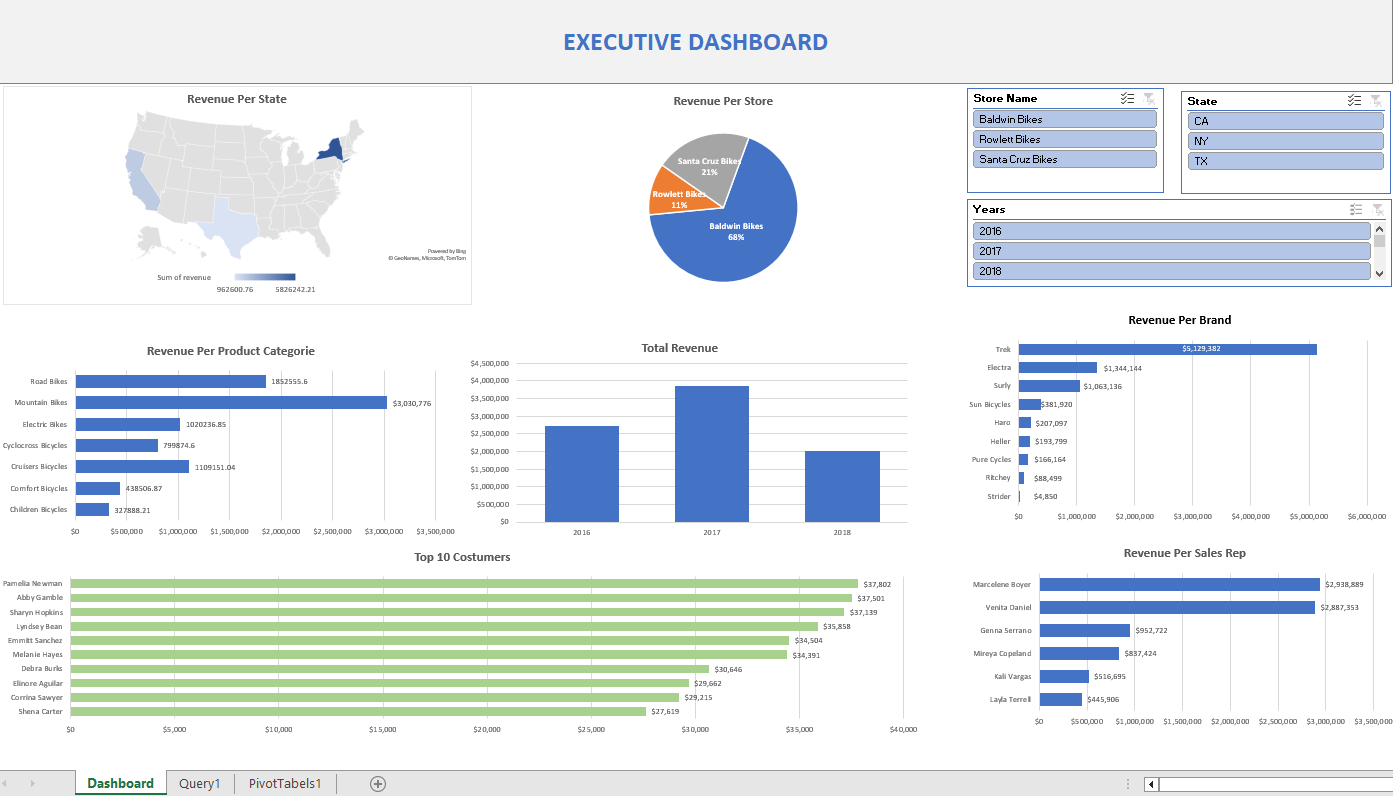

This screenshot's page, from the dashboard's own definition file:
{"tool":"tableau","page":{"name":"Tableau de bord 1","canvas":[800,1600],"ordinal":0},"visuals":[{"type":"worksheet","title":"Year","mark":"Automatic","box":[646,7,152,92]},{"type":"text","box":[102,16,581,82]},{"type":"worksheet","title":"Banner","mark":"Automatic","box":[2,119,797,139]},{"type":"worksheet","title":"Title","mark":"Automatic","box":[0,262,382,50]},{"type":"filter","title":"Revenue per State","param":"[federated.1f1k3aw1o0yx4b13ix1qu1k1xn3j].[none:state:nk]","box":[390,268,406,34]},{"type":"worksheet","title":"Revenue per Month","mark":"Automatic","rows":["revenue"],"cols":["order_date"],"box":[390,303,406,303]},{"type":"worksheet","title":"Revenue per Year","mark":"Bar","rows":["revenue"],"cols":["order_date"],"box":[1,306,384,301]},{"type":"worksheet","title":"Revenue per Brand","mark":"Pie","box":[5,632,402,301]},{"type":"worksheet","title":"Revenue per Store","mark":"Pie","box":[409,634,386,296]},{"type":"worksheet","title":"Revenue per Catego","mark":"Automatic","box":[5,919,789,248]},{"type":"worksheet","title":"Revenue Top Costumer","mark":"Automatic","rows":["customers"],"cols":["revenue"],"box":[4,1173,396,248]},{"type":"worksheet","title":"Revenue Per SalesRep","mark":"Automatic","rows":["sales_rep"],"cols":["revenue"],"box":[414,1173,375,250]},{"type":"parameter","param":"[Parameters].[Paramètre 1]","box":[232,1177,160,44]},{"type":"worksheet","title":"Revenue per State","mark":"Automatic","box":[73,1179,266,5]}]}

Visuals, with their boxes on the page's 800x1600 design canvas (x1, y1, x2, y2). These are canvas units, not pixel positions in the 1393x796 screenshot, which may show the page scaled, cropped or inside an application window:
"Year" worksheet: bbox=(646, 7, 798, 99)
text: bbox=(102, 16, 683, 98)
"Banner" worksheet: bbox=(2, 119, 799, 258)
"Title" worksheet: bbox=(0, 262, 382, 312)
"Revenue per State" filter: bbox=(390, 268, 796, 302)
"Revenue per Month" worksheet: bbox=(390, 303, 796, 606)
"Revenue per Year" worksheet (Bar marks): bbox=(1, 306, 385, 607)
"Revenue per Brand" worksheet (Pie marks): bbox=(5, 632, 407, 933)
"Revenue per Store" worksheet (Pie marks): bbox=(409, 634, 795, 930)
"Revenue per Catego" worksheet: bbox=(5, 919, 794, 1167)
"Revenue Top Costumer" worksheet: bbox=(4, 1173, 400, 1421)
"Revenue Per SalesRep" worksheet: bbox=(414, 1173, 789, 1423)
parameter: bbox=(232, 1177, 392, 1221)
"Revenue per State" worksheet: bbox=(73, 1179, 339, 1184)
